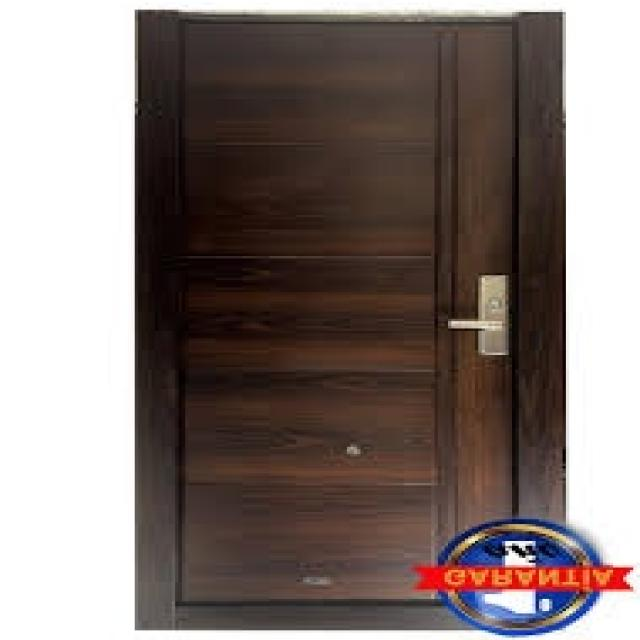door: (135, 11, 562, 631)
